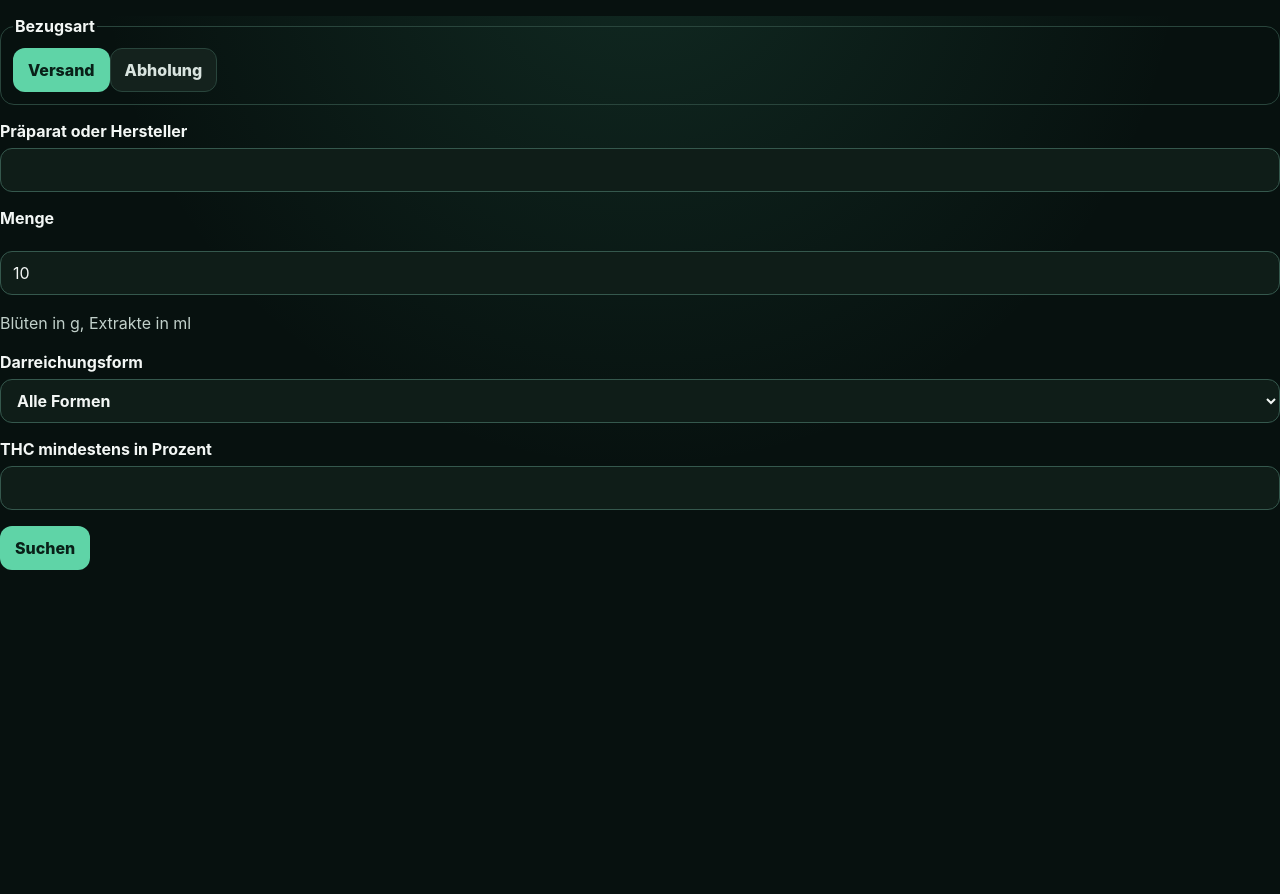
keeps a newer result and quantity when an older search resolves last
The width and height of the screenshot is (1280, 894).
Type "Alpha" into the search field. click: (640, 170)
box: [0,148,1279,192]
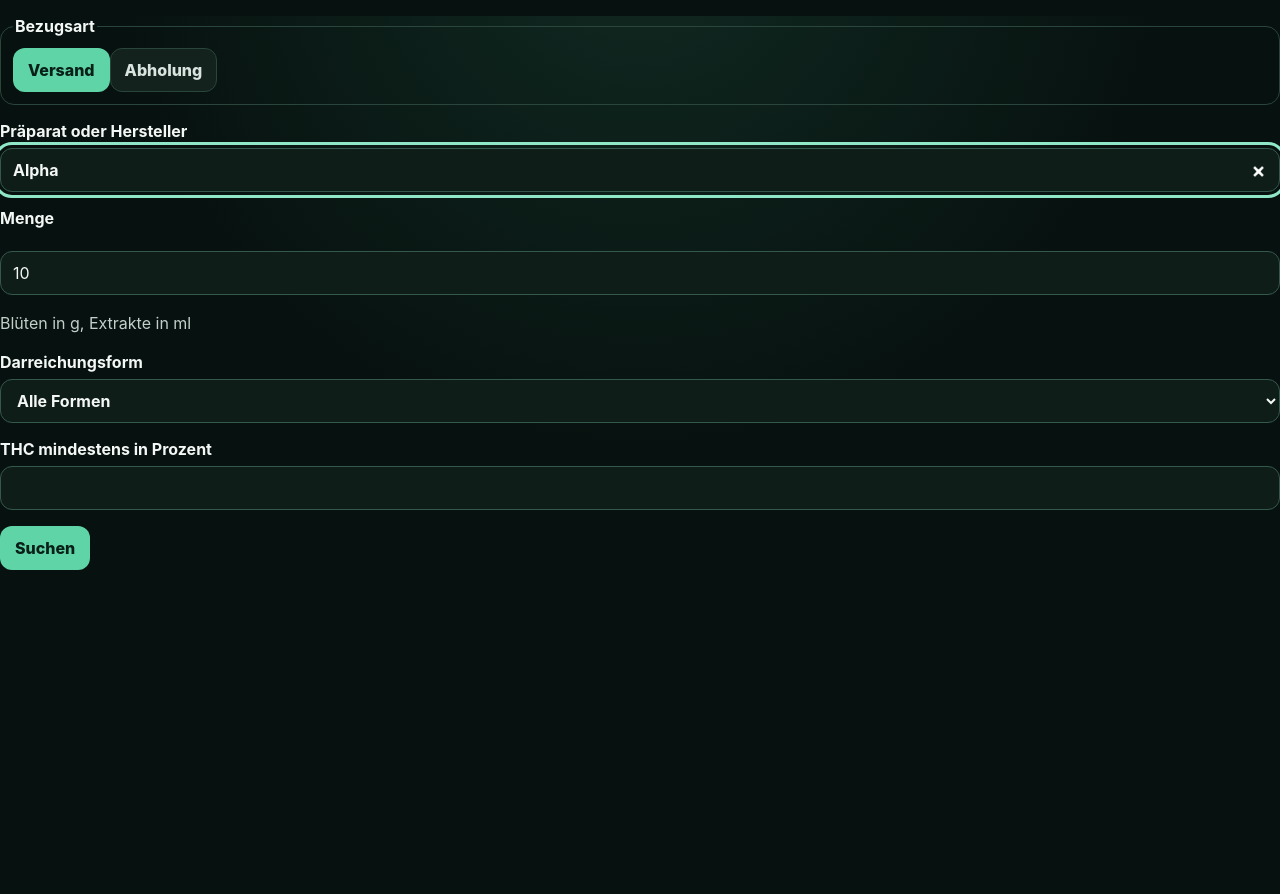
Click the button "Suchen". click: (45, 548)
box: [0,526,90,570]
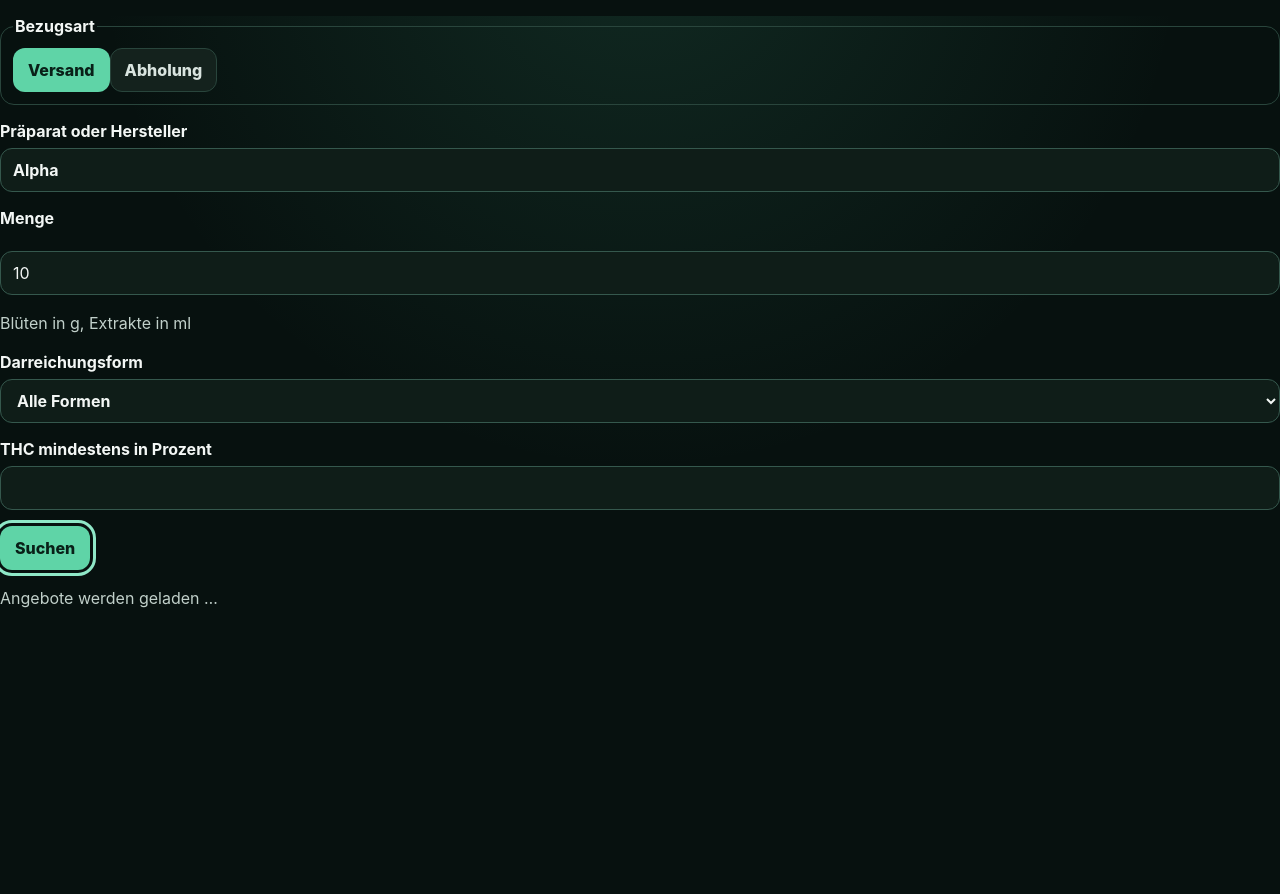
Replace the text in the search field with "Beta". click: (640, 170)
box: [0,148,1279,192]
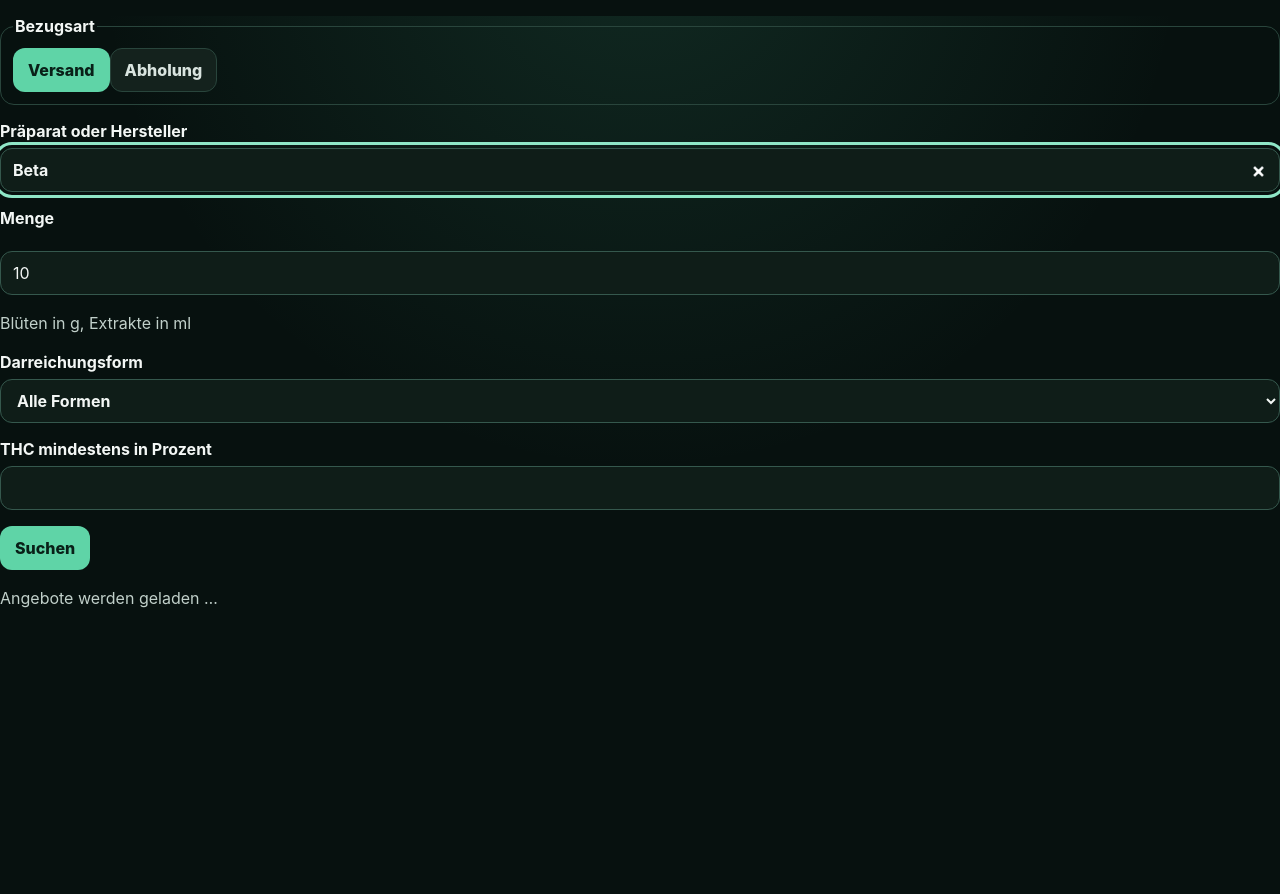
Replace the text in the number field labelled "Menge" with "7". click: (640, 273)
box: [0,251,1279,295]
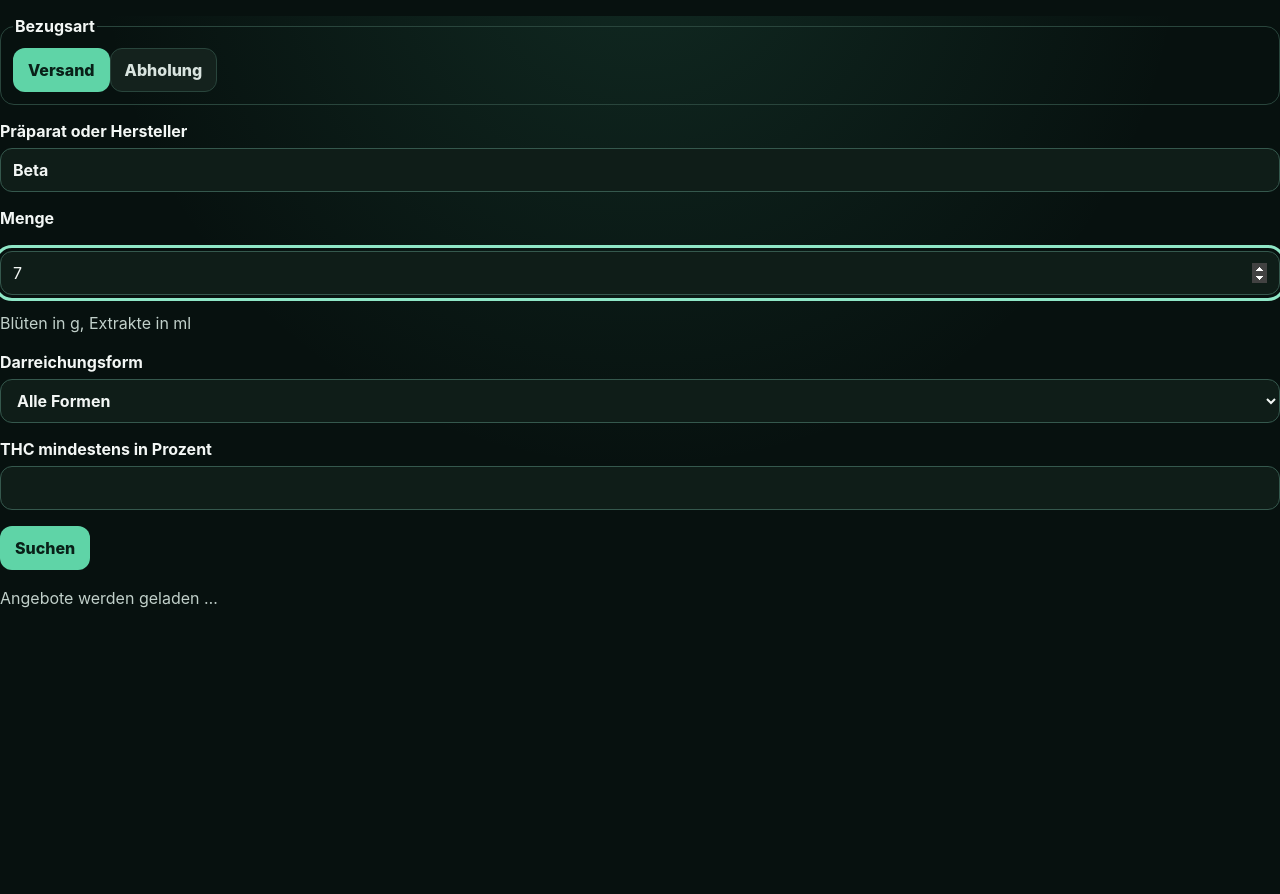
Click the button "Suchen". click: (45, 548)
box: [0,526,90,570]
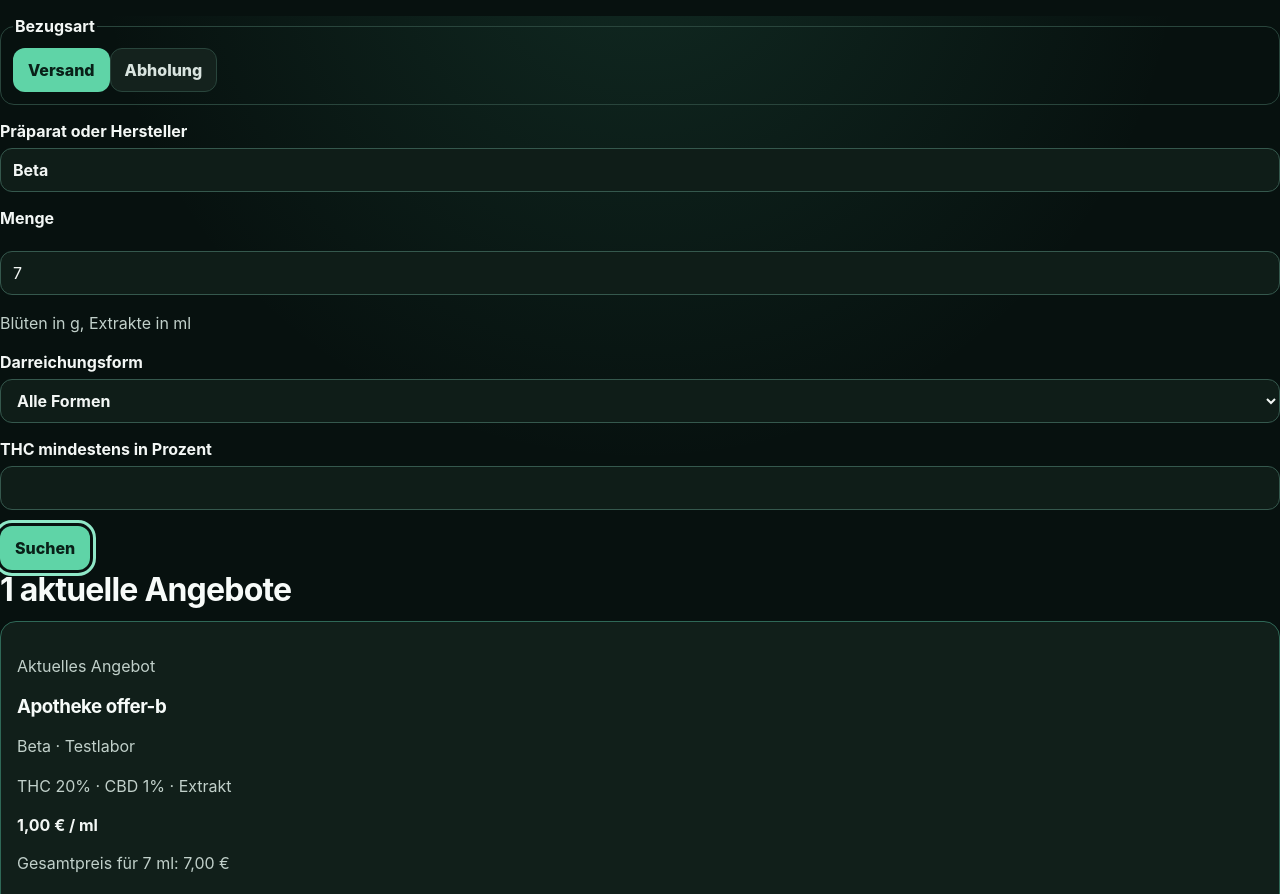
Check: the text "Beta · Testlabor" is shown, box [17,736,135,756]
